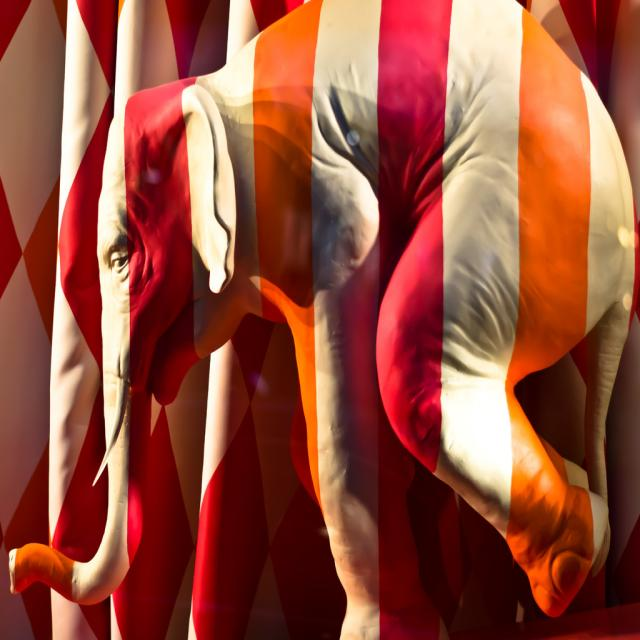elephant: (5, 0, 638, 639)
